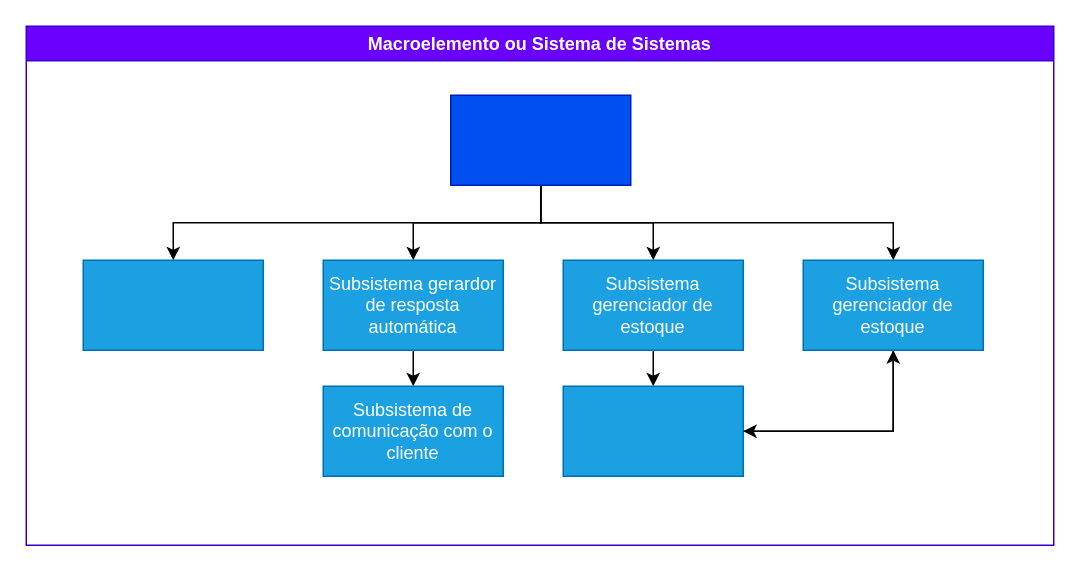
The diagram is 1080 pixels wide and 572 high, and some of its shapes have lost their labels. The shapes that lost their labels are listed below. From the top down, each one's centre as x and y in pixels, then its label:
pixel 540 139: Sistema de processamento de compras
pixel 172 304: Subsistema de banco de dados
pixel 652 430: Subsistema de identificação de produtos vendidos
